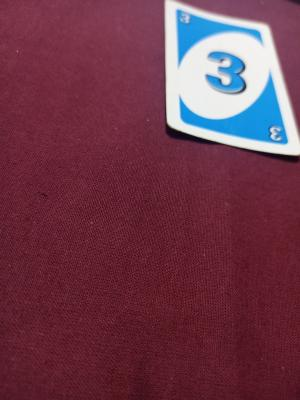blue: (175, 13, 282, 145)
